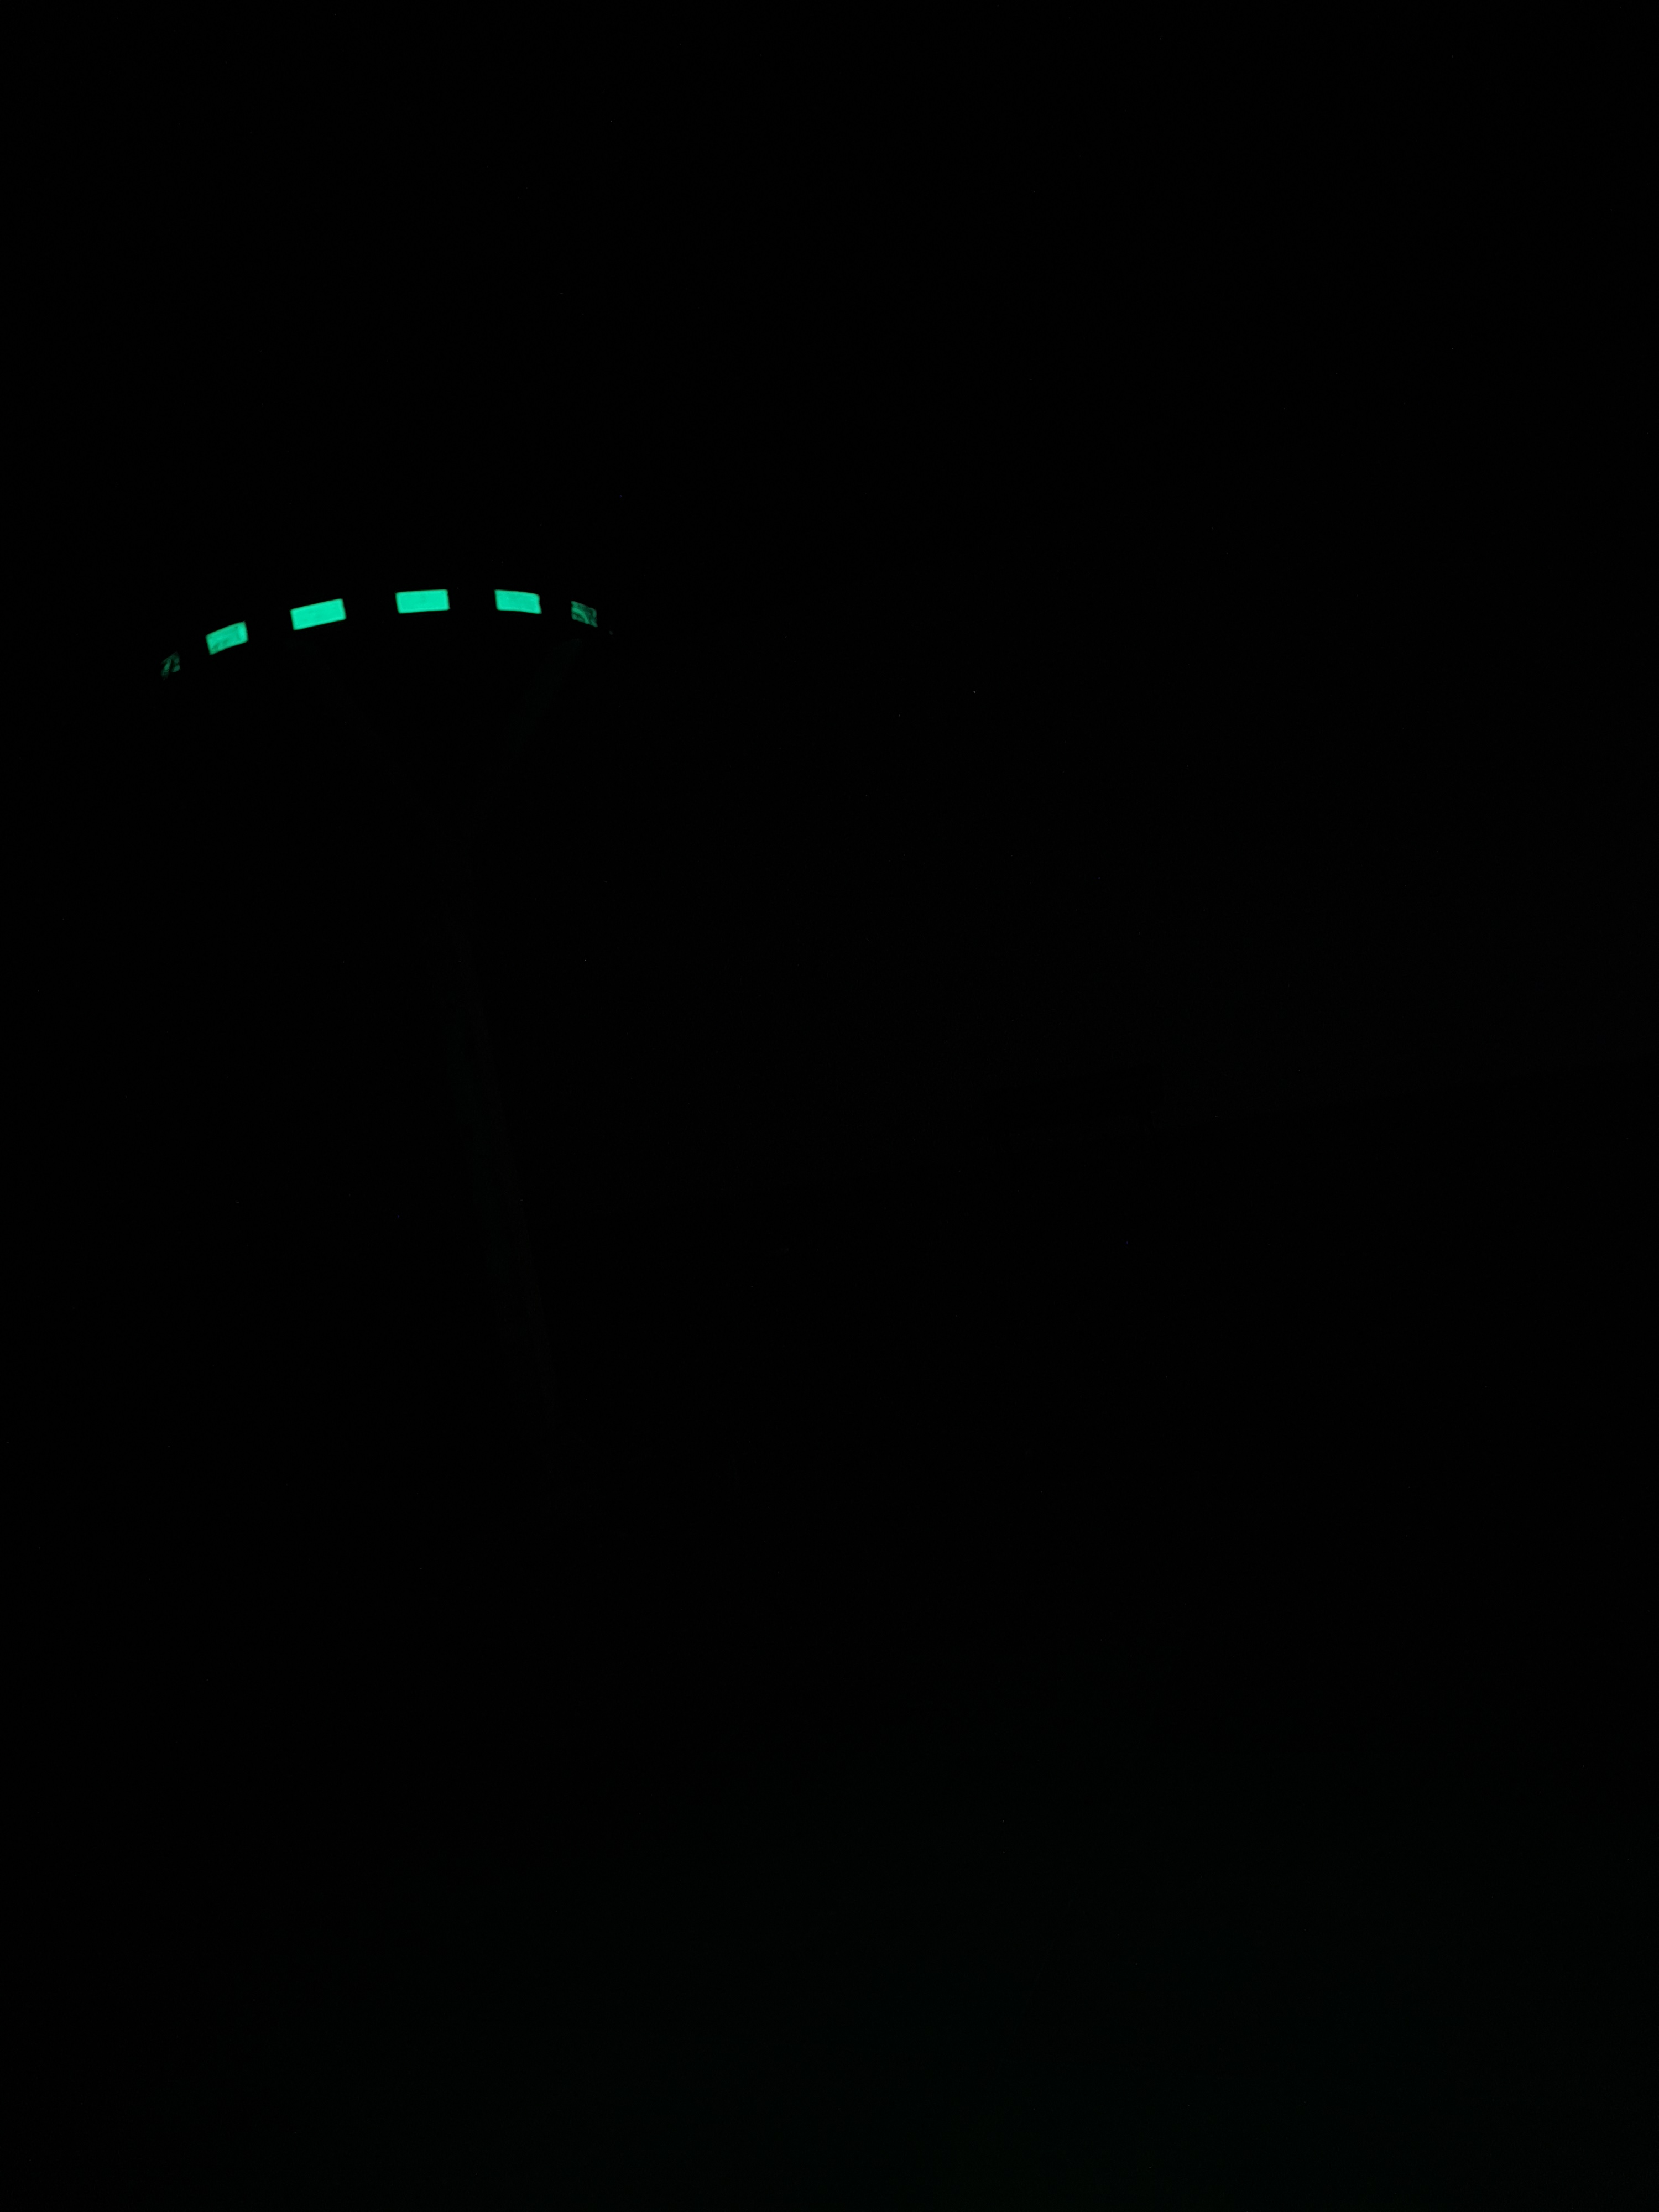hoop: (157, 583, 601, 669)
